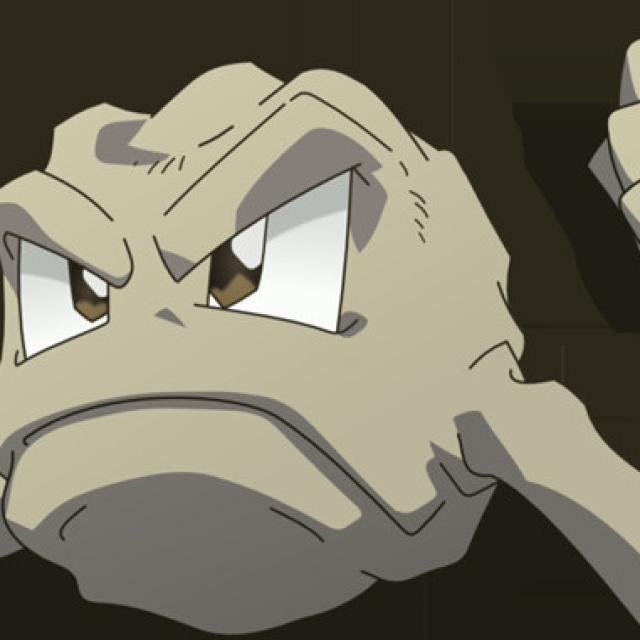Geodude: (0, 55, 591, 633)
